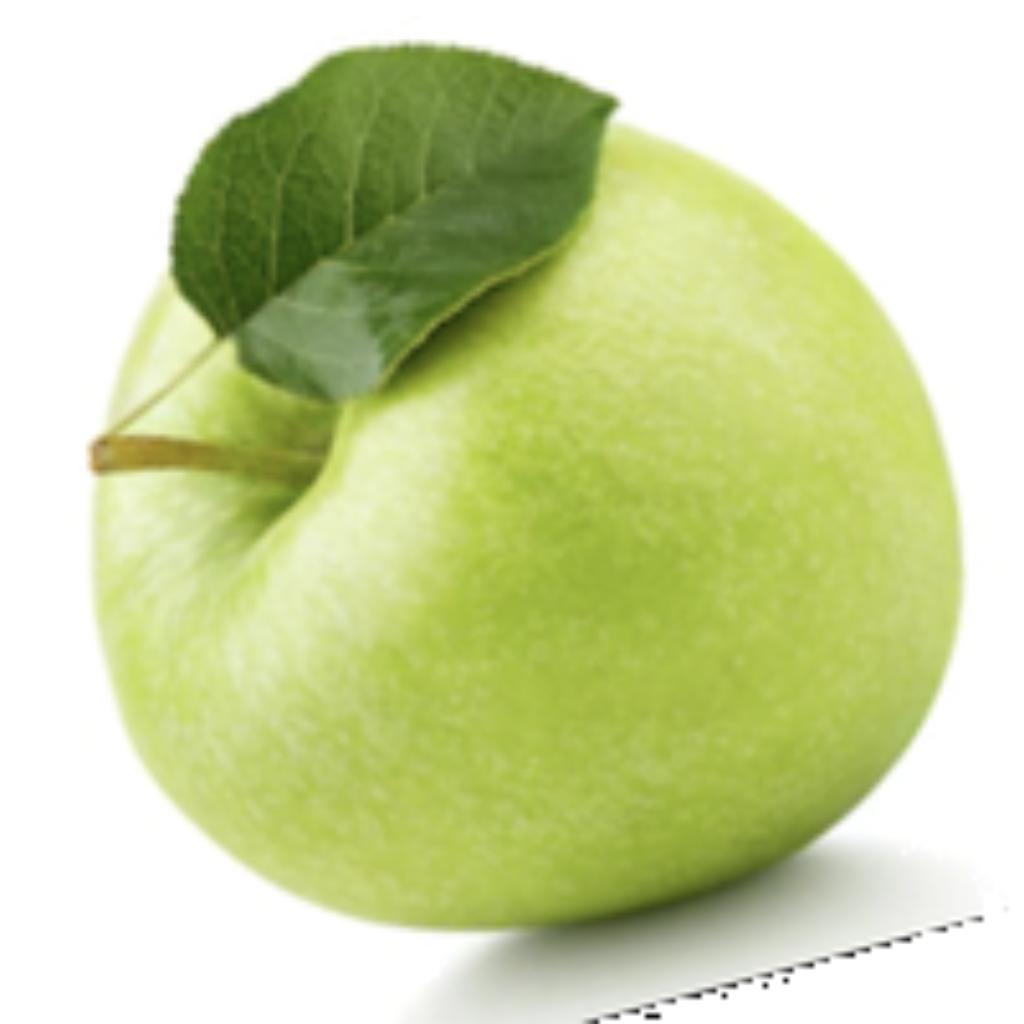apple: (82, 36, 968, 1019)
